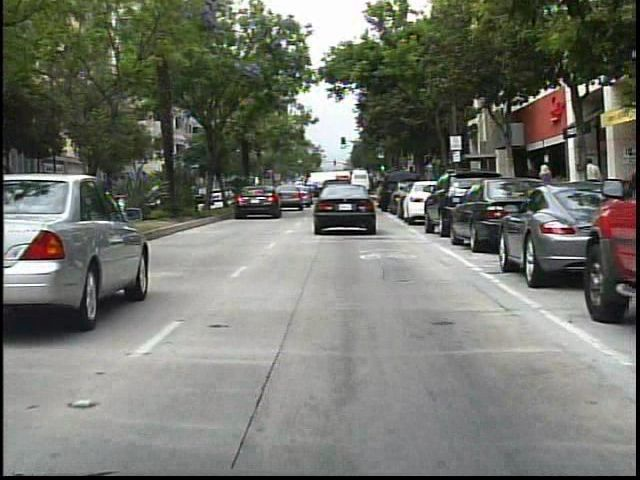person: (531, 161, 559, 219), (516, 158, 541, 222), (579, 153, 603, 216)
